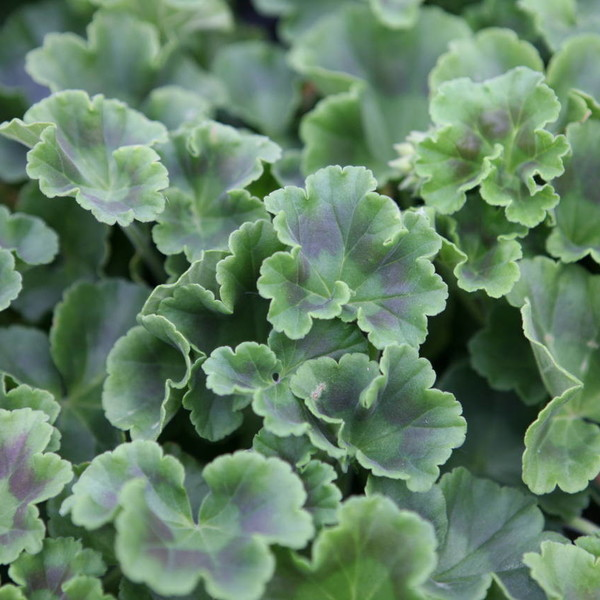obstacle: (7, 83, 575, 577)
